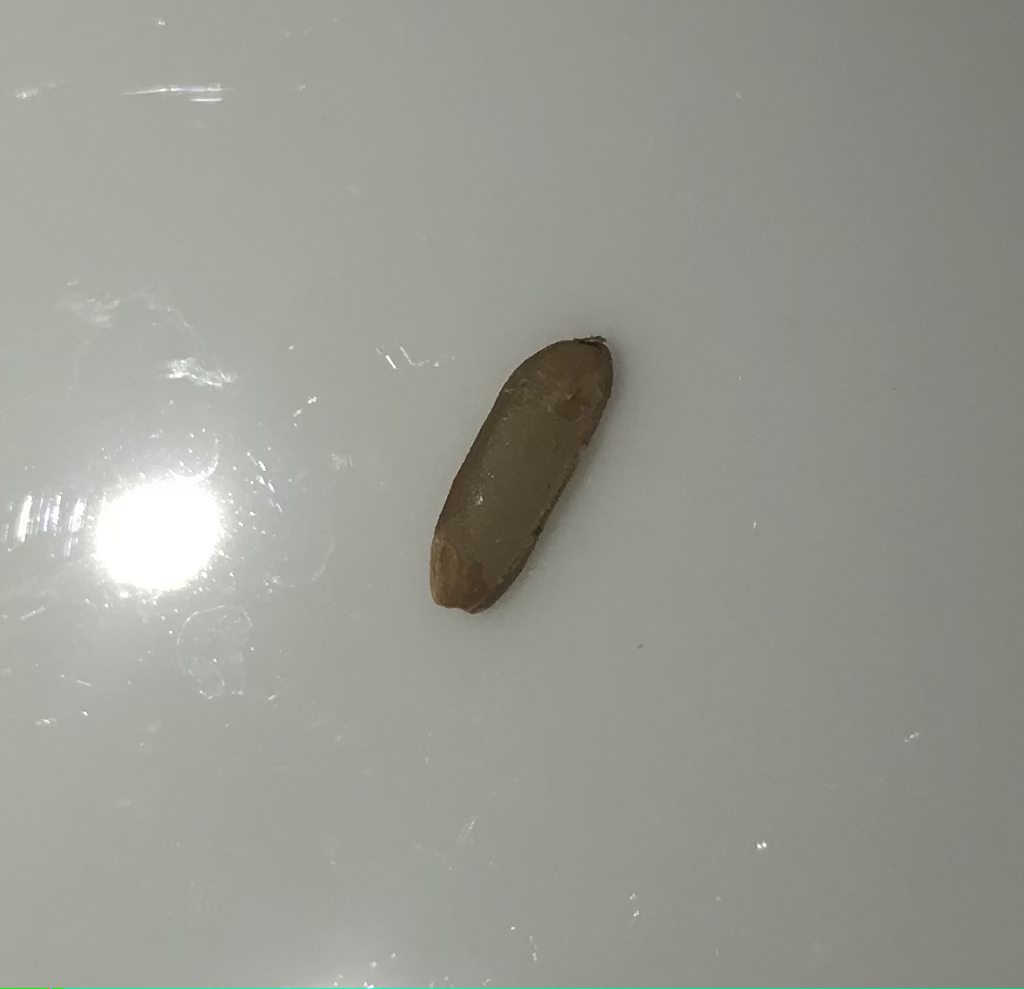Gao Lut Dien Bien: (426, 293, 617, 631)
